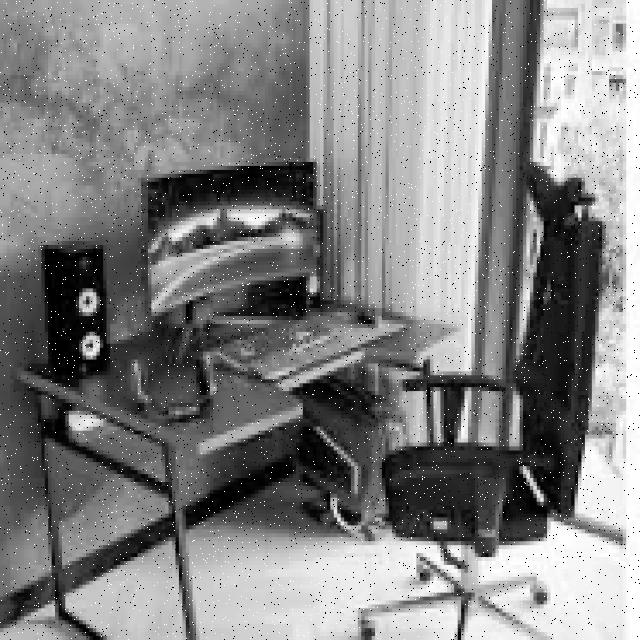book: (355, 162, 602, 640)
table: (7, 292, 461, 640)
